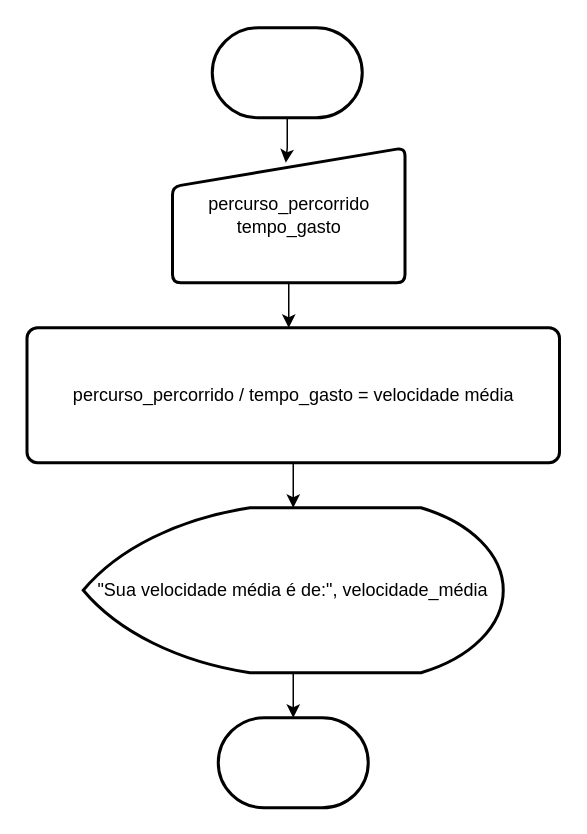
Image size: 587x834. Some labels were removed from this diagram. Here are the shapes that lost their labels. From the top down, the box of each, then its label:
(210, 26, 363, 118): inicio
(216, 716, 369, 808): fim
